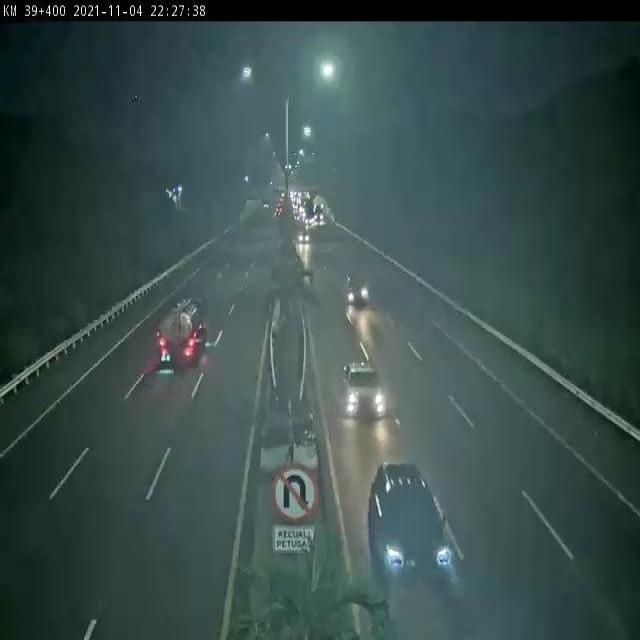car: (369, 462, 449, 582), (343, 363, 386, 417), (345, 277, 370, 307)
mid truck: (159, 303, 206, 367)
